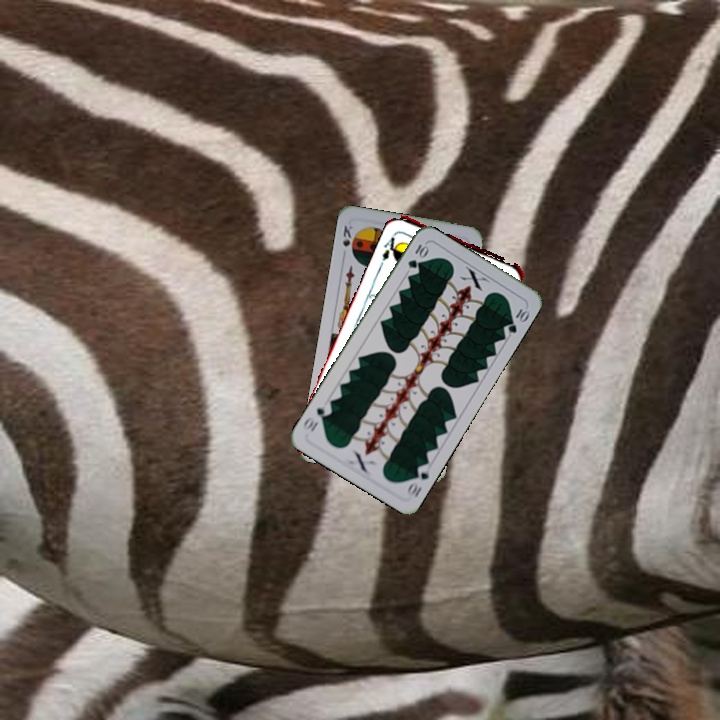EA: (377, 228, 405, 266)
G10: (402, 460, 433, 500), (404, 240, 431, 271)
SK: (338, 221, 356, 260)
